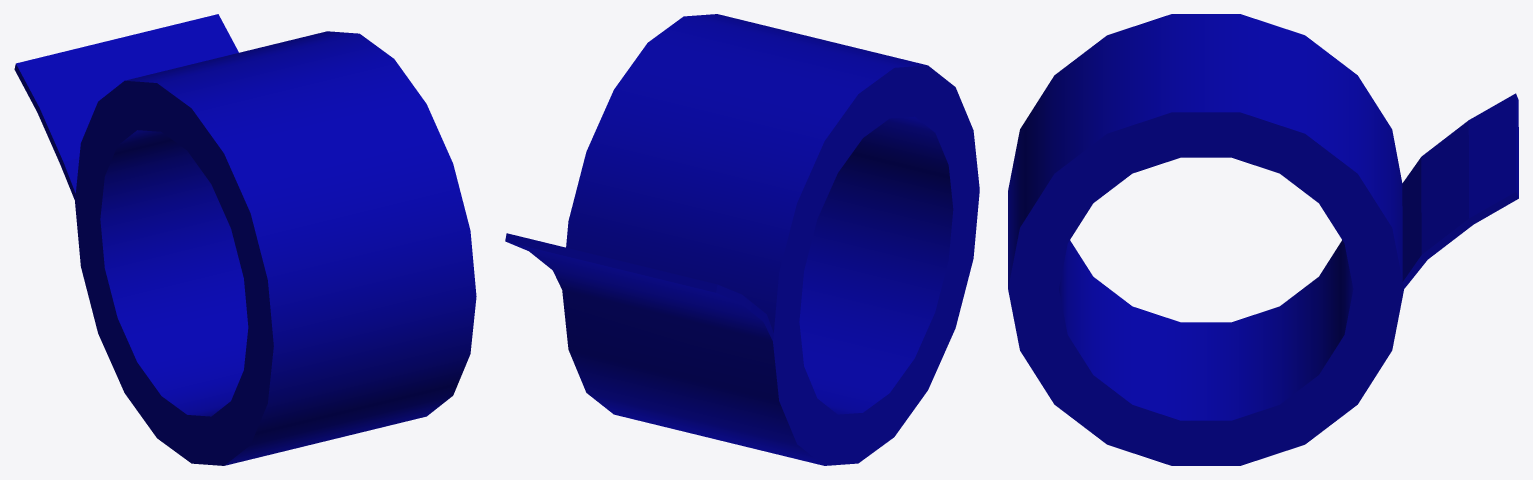
The model's file is Tape_Blue.fbx.
The picture shows the model from 3 angles, left to right: view 1: azimuth 30°, elevation 25°; view 2: azimuth 150°, elevation 25°; view 3: azimuth 270°, elevation 25°; orthographic projection. The views are drawn at different scales.
Parts seen in each view (by area): view 1: Tape_Blue; view 2: Tape_Blue; view 3: Tape_Blue.
Part boxes in pixels (bbox=[...]): Tape_Blue: bbox=[14, 14, 476, 465]; Tape_Blue: bbox=[505, 14, 979, 465]; Tape_Blue: bbox=[1008, 14, 1518, 465].
Size of the model in its own units: 3.29 by 5.43 by 7.12.
